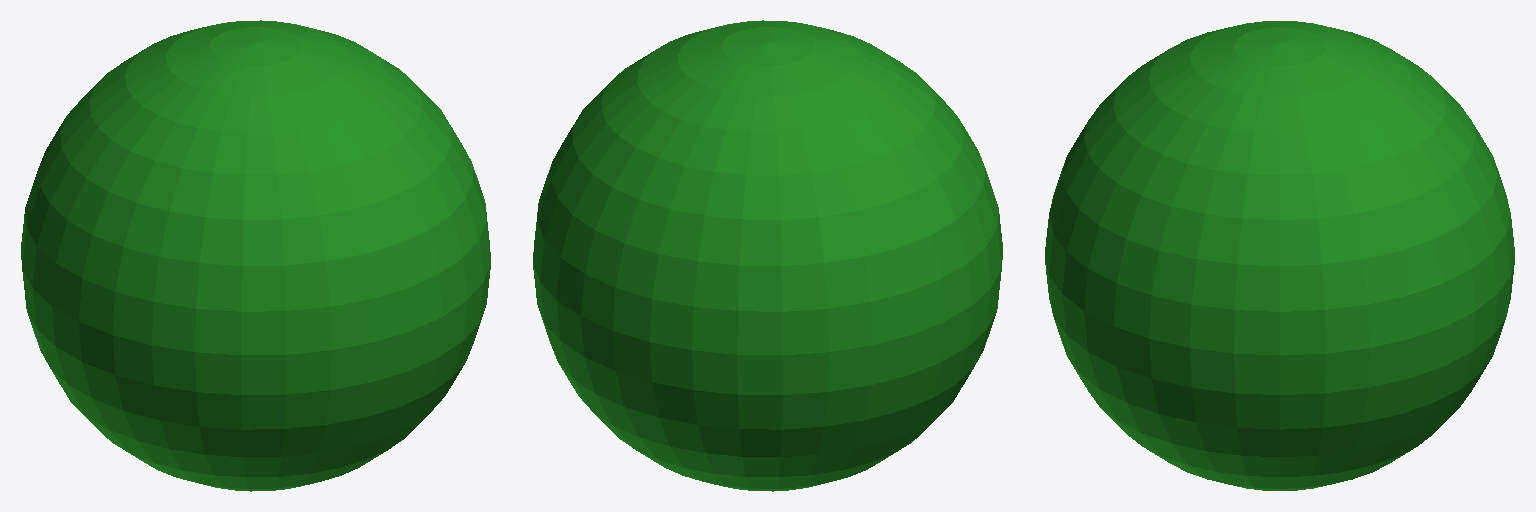
robot.urdf — squareball:
<?xml version="1.0"?>
<robot name="squareball">
  <material name="blockmat">
    <color rgba="0.2 0.6 0.2 1"/>
  </material>

  <link name="origin">
    <contact>
      <lateral_friction value="1.0"/>
      <spinning_friction value=".0001"/>
    </contact>
    <inertial>
      <origin rpy="0 0 0" xyz="0 0 0"/>
      <mass value="0.01"/>
      <inertia ixx="0" ixy="0" ixz="0" iyy="0" iyz="0" izz="0"/>
    </inertial>
    <visual>
      <origin rpy="0 0 0" xyz="0.0 0.0 0.0"/>
      <geometry>
        <sphere radius="0.015"/>
      </geometry>
      <material name="blockmat"/>
    </visual>
    <collision>
      <origin rpy="0 0 0" xyz="0.0 0.0 0.0"/>
      <geometry>
        <box size="0.03 0.01 0.01"/>
      </geometry>
    </collision>
    <collision>
      <origin rpy="0 0 0" xyz="0.0 0.0 0.0"/>
      <geometry>
        <box size="0.01 0.03 0.01"/>
      </geometry>
    </collision>
    <collision>
      <origin rpy="0 0 0" xyz="0.0 0.0 0.0"/>
      <geometry>
        <box size="0.01 0.01 0.03"/>
      </geometry>
    </collision>
  </link>

  

  
</robot>

--- Render facts (derived) ---
3 views of the same robot in one strip: view 1: azimuth 30°, elevation 25°; view 2: azimuth 150°, elevation 25°; view 3: azimuth 270°, elevation 25° (orthographic).
Model squareball with 1 links and 0 joints (none), rooted at origin, posed all joints at 0.
Links seen in each view (by area): view 1: origin; view 2: origin; view 3: origin.
Link boxes in pixels (<box>): origin: <box>21,20,490,491</box>; origin: <box>533,20,1002,491</box>; origin: <box>1045,21,1514,490</box>.
Bounding box of the posed robot: 0.03 × 0.03 × 0.03 m (x, y, z).
Geometry: primitives only (box / cylinder / sphere), no mesh files.